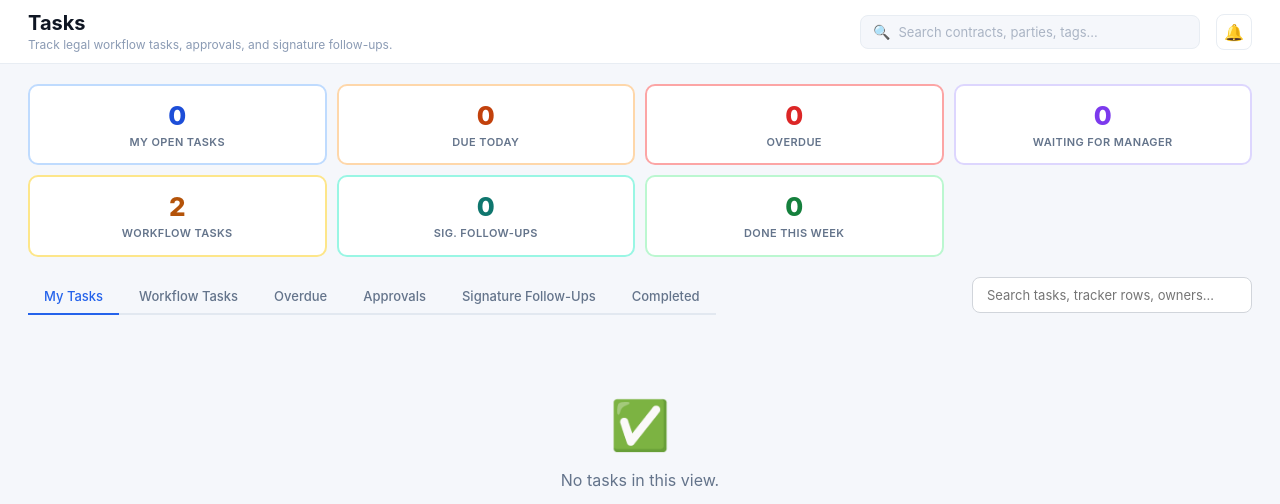
Scenario: (tf-5) Overdue shows items whose deadline is in the past
Click the button "Overdue" at [301, 297], box [258,279,343,315]
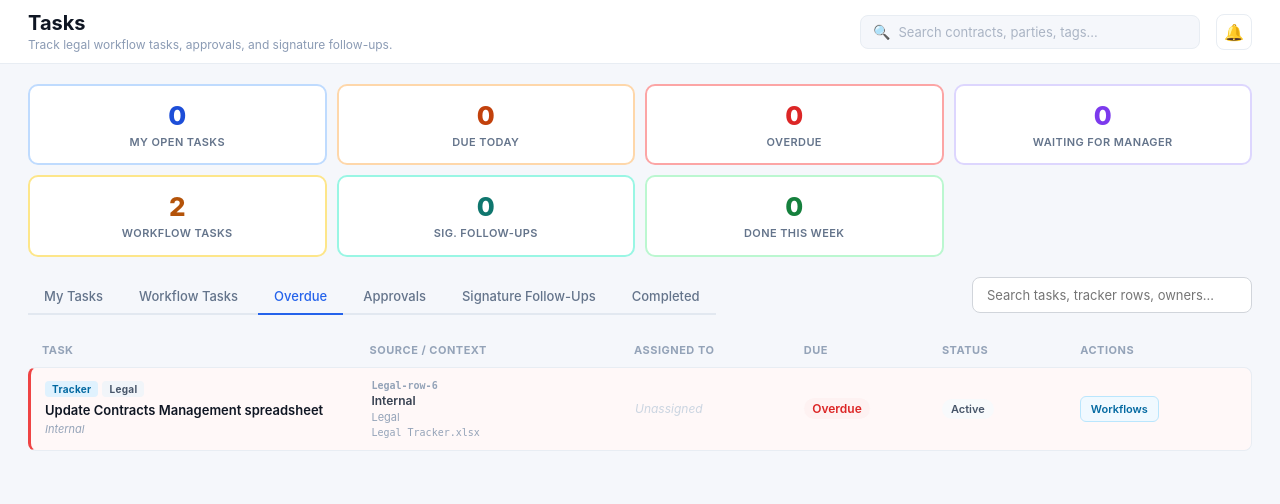
Expected: the number of elements with class "tl__row" is 1, [28,367,1252,451]
